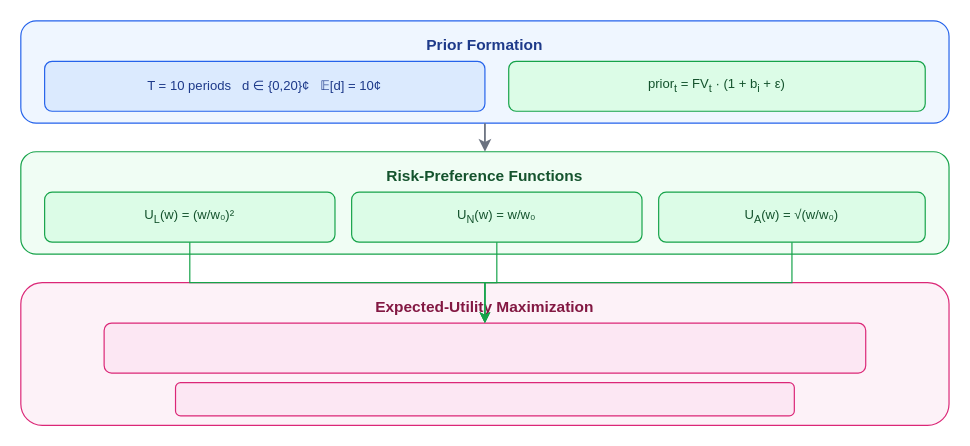
This 970x446 diagram has some shape labels left out. Here are the shapes that lost their labels. From the top down, the centre of each, then its label:
At [484,347]: "EU(a) = p fill · U(w₁) + (1 − p fill ) · U(w₀)".
At [484,398]: "a* = argmax EU(a), a ∈ {hold, buy, sell, bid, ask}".
